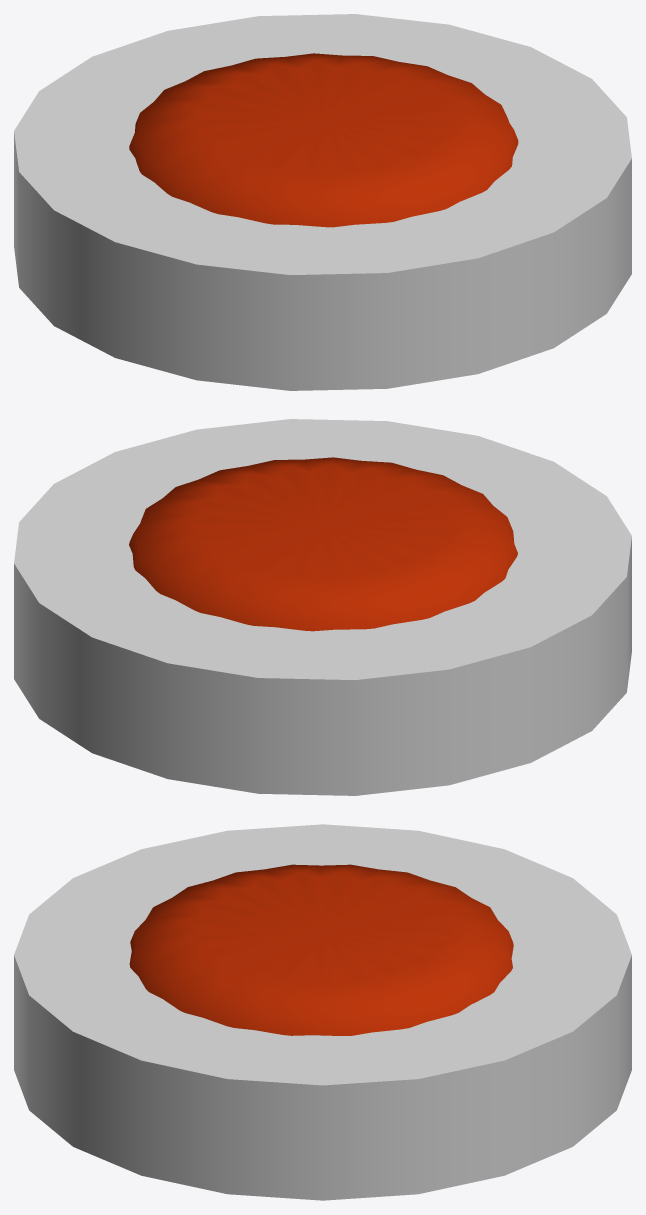
File: button2.fbx
3 renders of one model, top to bottom at view 1: azimuth 30°, elevation 25°; view 2: azimuth 150°, elevation 25°; view 3: azimuth 270°, elevation 25°, orthographic.
Parts seen in each view (by area): view 1: polySurface31; view 2: polySurface31; view 3: polySurface31.
Boxes of the visible parts, x1,y1,x2,y2 form: polySurface31: [14, 14, 631, 390]; polySurface31: [14, 419, 631, 795]; polySurface31: [14, 824, 631, 1200].
Bounding box in the file's own units: 14.47 × 3.64 × 14.47.
